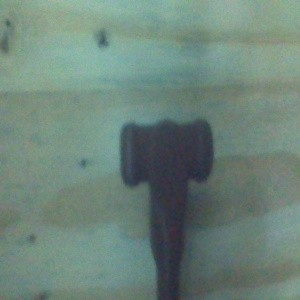palu: (119, 116, 214, 300)
